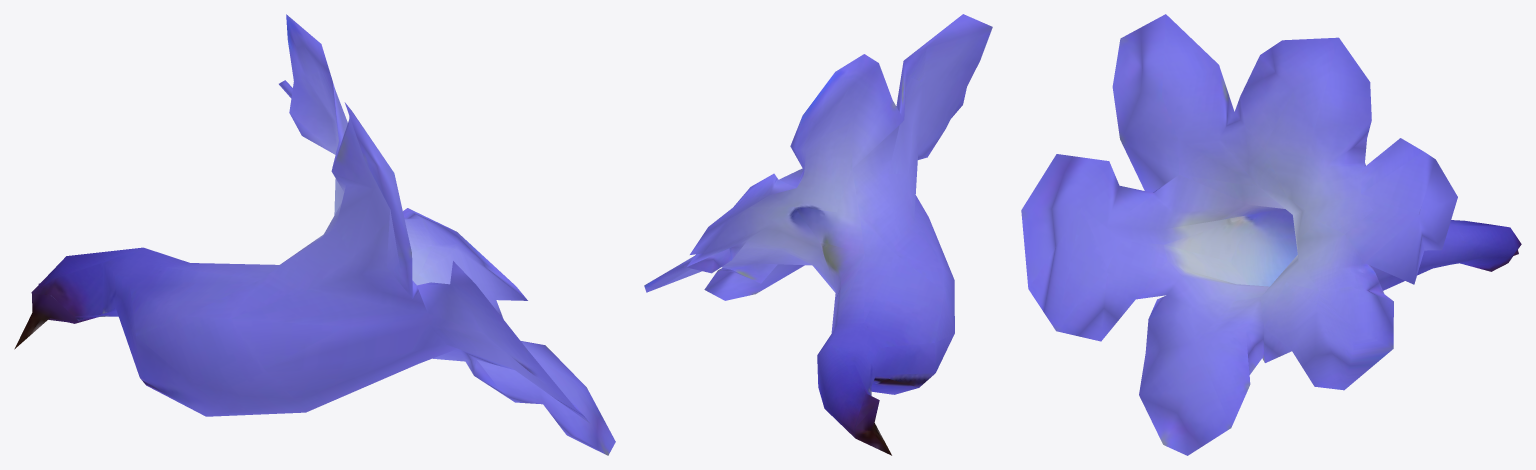
The model's file is tree_petal_opt.glb.
The picture shows the model from 3 angles, left to right: view 1: azimuth 30°, elevation 25°; view 2: azimuth 150°, elevation 25°; view 3: azimuth 270°, elevation 25°; orthographic projection. The views are drawn at different scales.
Visible parts, largest first — view 1: tree_petal; view 2: tree_petal; view 3: tree_petal.
Boxes of the visible parts, <box> form: tree_petal: <box>14,14,615,455</box>; tree_petal: <box>644,14,992,455</box>; tree_petal: <box>1021,14,1521,455</box>.
Size of the model in its own units: 0.1201 by 0.1187 by 0.1622.
Materials: 1 (1 with a texture image).
